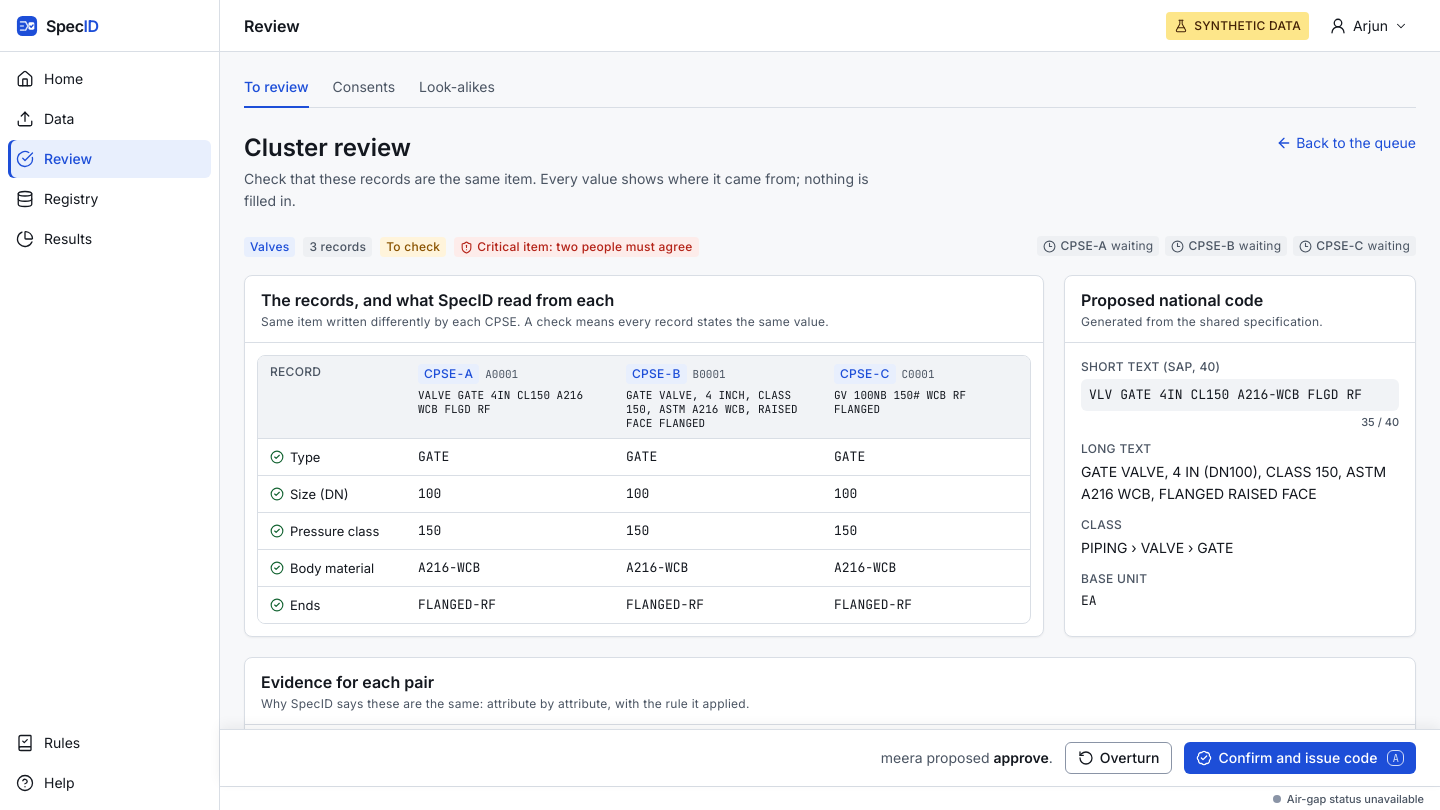
Test case: S6 cluster review › a checker confirms; the result says who still has to consent
Expected: the text "meera proposed approve." is shown, [881, 747, 1053, 769]
Click the button "Confirm and issue code A". click: point(1300, 758)
box: [1184, 742, 1416, 774]
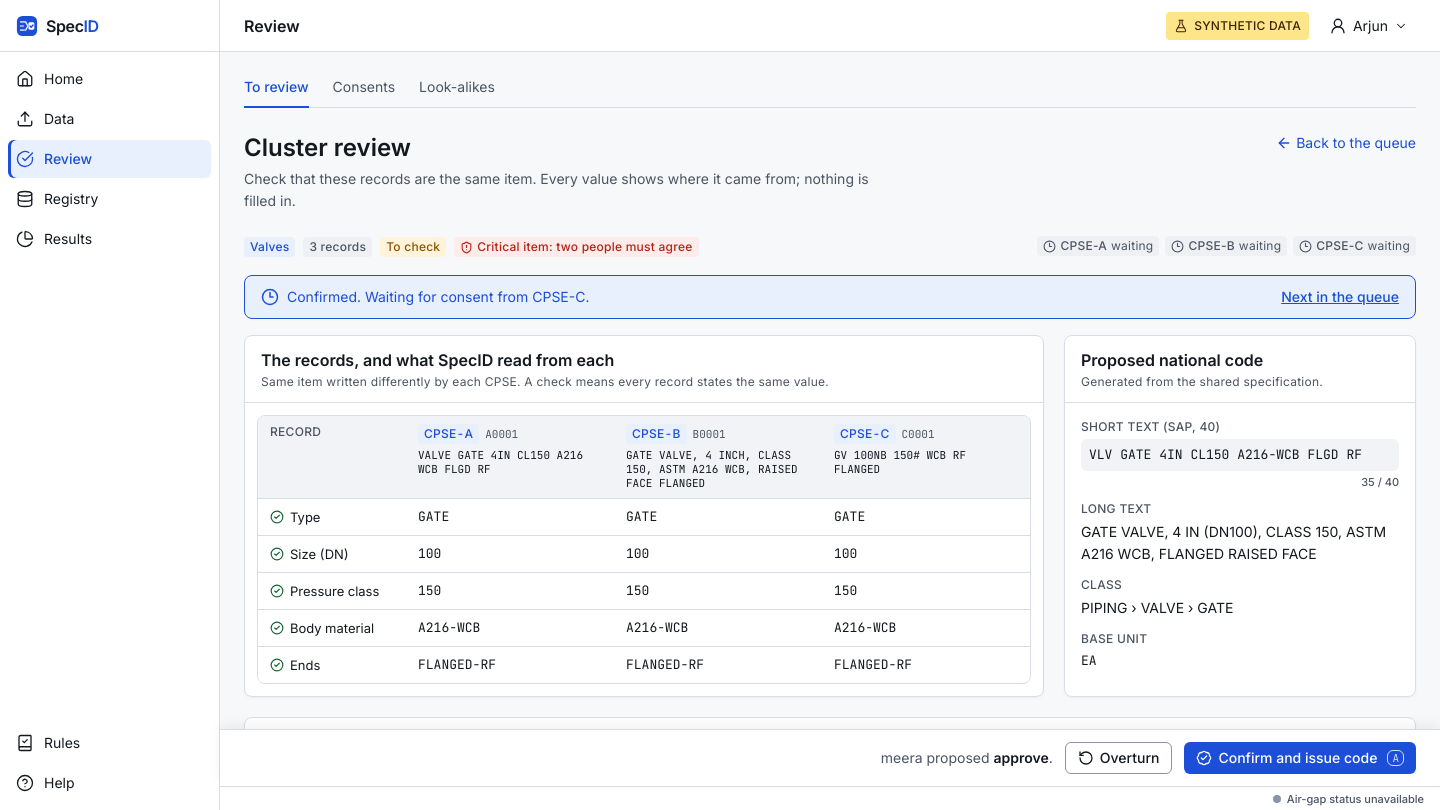
Result: the text "Confirmed. Waiting for consent from CPSE-C." is shown at [287, 288, 590, 304]
